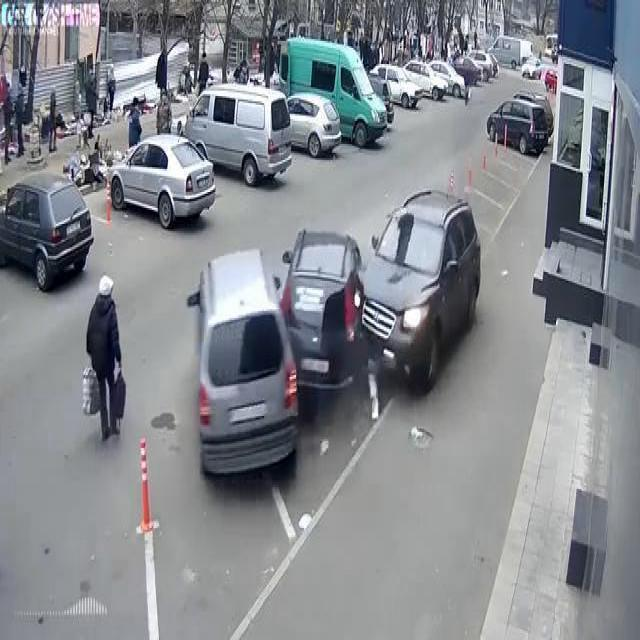moderate: (184, 182, 485, 492)
